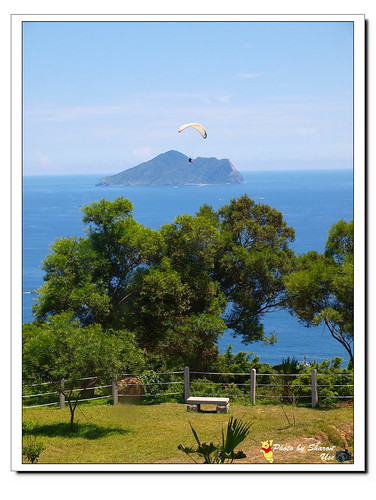turtleIsland: (96, 150, 246, 186)
